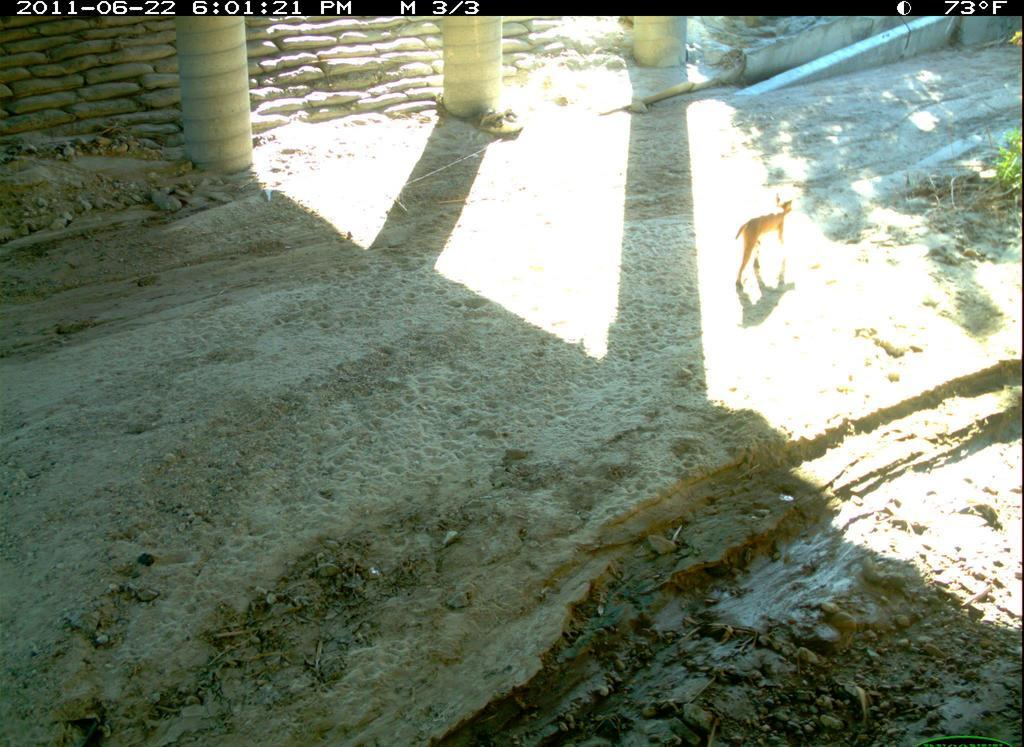bobcat: (722, 190, 803, 303)
